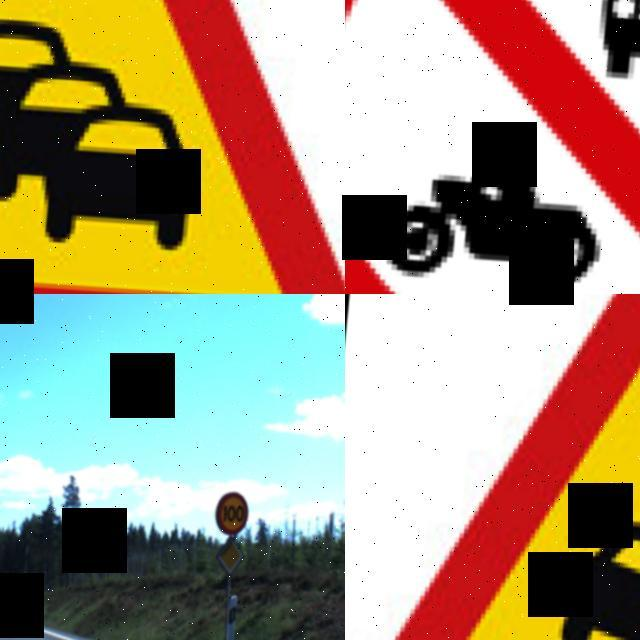147: (0, 0, 345, 294)
55: (216, 488, 258, 538)
57: (216, 531, 253, 578)
66: (18, 572, 32, 592)
No entry for motor vehicles: (345, 0, 640, 294)
Slippery road: (345, 294, 640, 640)
